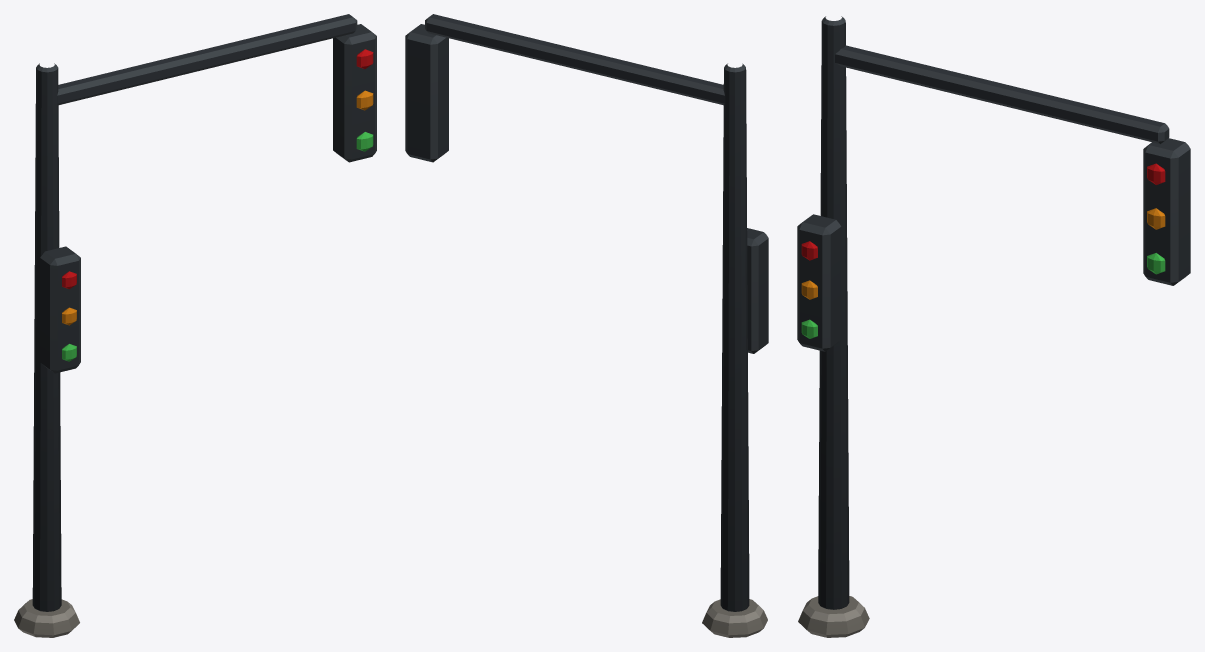
The model's file is traffic-light-v1.glb.
The picture shows the model from 3 angles, left to right: view 1: azimuth 30°, elevation 25°; view 2: azimuth 150°, elevation 25°; view 3: azimuth 330°, elevation 25°; orthographic projection. The views are drawn at different scales.
Parts seen in each view (by area): view 1: traffic-light-v1.lod0; view 2: traffic-light-v1.lod0; view 3: traffic-light-v1.lod0.
Boxes of the visible parts, x1,y1,x2,y2 form: traffic-light-v1.lod0: (14,14,376,637); traffic-light-v1.lod0: (405,14,768,637); traffic-light-v1.lod0: (797,16,1190,637).
Bounding box in the file's own units: 3.67 × 5.58 × 0.7286.
